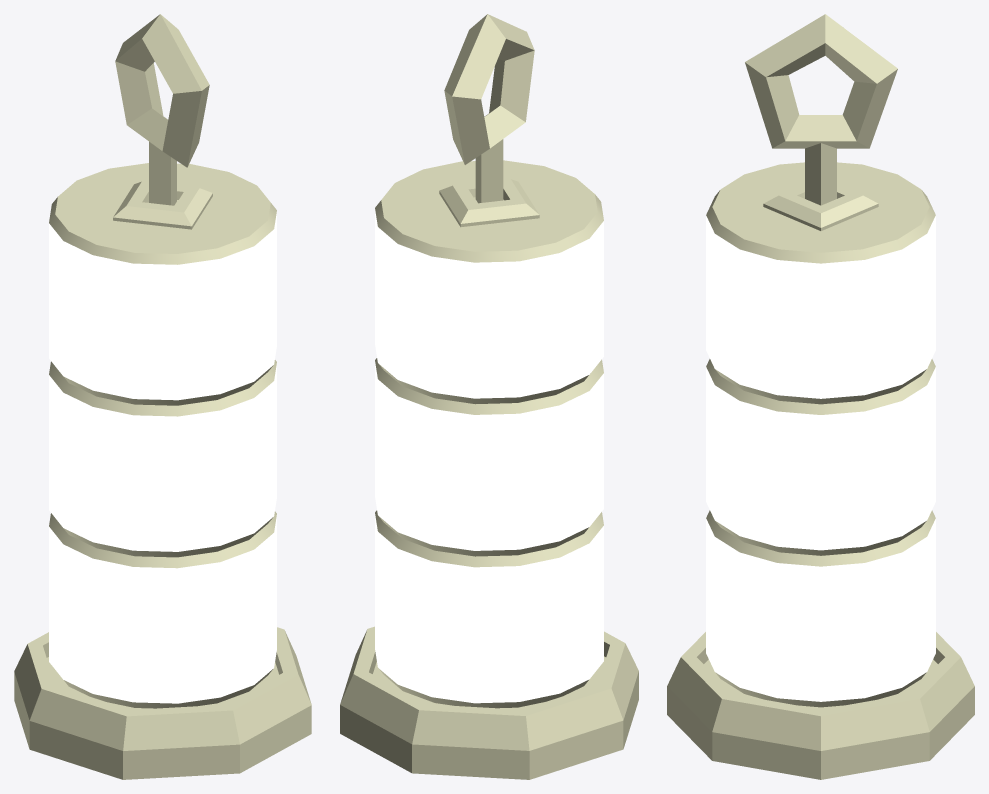
The model's file is CrystalCalls_Key_Keyhole.fbx.
The picture shows the model from 3 angles, left to right: view 1: azimuth 30°, elevation 25°; view 2: azimuth 150°, elevation 25°; view 3: azimuth 270°, elevation 25°; orthographic projection.
Visible parts, largest first — view 1: Key, Keyhole; view 2: Key, Keyhole; view 3: Key, Keyhole.
Part boxes in pixels (left/top/right/bottom): Key: left=49, top=14, right=276, bottom=708; Keyhole: left=14, top=627, right=311, bottom=779; Key: left=375, top=14, right=603, bottom=708; Keyhole: left=340, top=626, right=638, bottom=779; Key: left=706, top=14, right=935, bottom=707; Keyhole: left=667, top=632, right=974, bottom=779.
Bounding box in the file's own units: 76.63 × 193 × 76.63.
